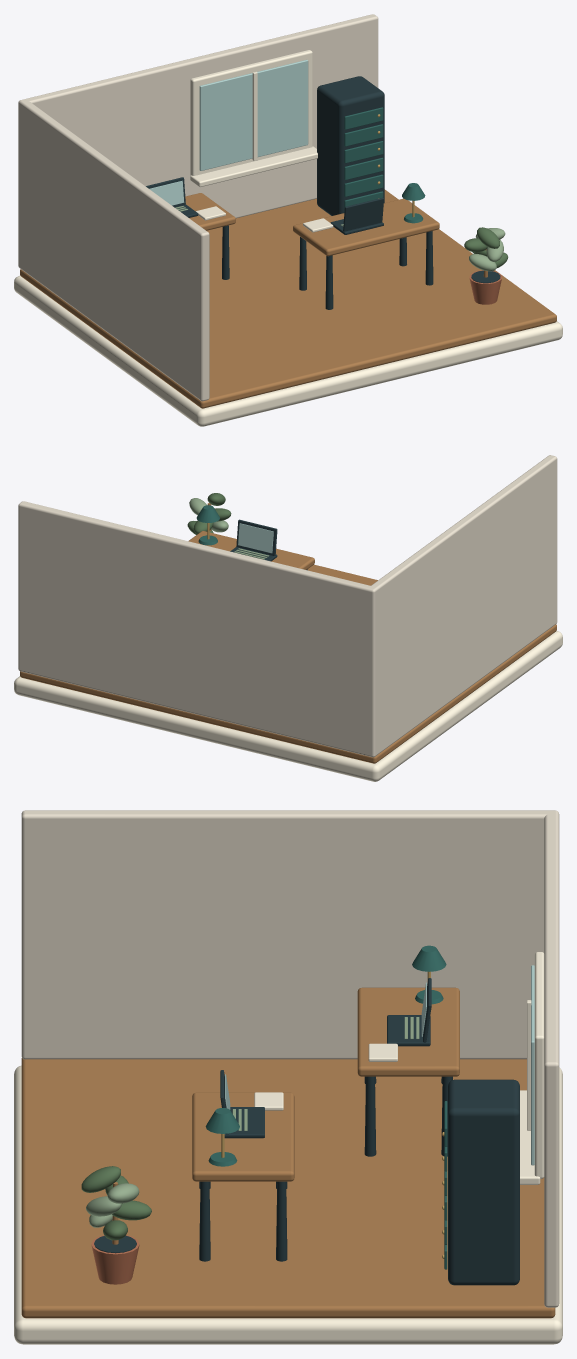
The model's file is business-ai.glb.
The picture shows the model from 3 angles, top to bottom: view 1: azimuth 30°, elevation 25°; view 2: azimuth 150°, elevation 25°; view 3: azimuth 270°, elevation 25°; orthographic projection. The views are drawn at different scales.
Parts seen in each view (by area): view 1: floor, side-wall, back-wall, foundation, window-glass, cabinet, desktop (×2), window-frame, server (×5), window-sill, display-shell, ceramic-pot (+2 smaller); view 2: back-wall, side-wall, foundation, floor, desktop, screen, display-shell; view 3: side-wall, floor, foundation, cabinet, desktop (×2), back-wall, leg (×3), window-frame, keyboard-base (×2), ceramic-pot, shade (×2), window-sill (+2 smaller).
Part boxes in pixels (x1=…): floor: x1=20, y1=189, x2=556, y2=408; side-wall: x1=20, y1=100, x2=209, y2=401; back-wall: x1=18, y1=14, x2=378, y2=269; foundation: x1=14, y1=275, x2=562, y2=426; window-glass: x1=199, y1=59, x2=308, y2=170; cabinet: x1=317, y1=76, x2=384, y2=215; desktop (×2): x1=185, y1=193, x2=439, y2=256; window-frame: x1=190, y1=50, x2=312, y2=175; server (×5): x1=344, y1=107, x2=383, y2=196; window-sill: x1=190, y1=146, x2=317, y2=187; display-shell: x1=343, y1=197, x2=383, y2=231; ceramic-pot: x1=469, y1=270, x2=502, y2=304; back-wall: x1=18, y1=501, x2=377, y2=757; side-wall: x1=371, y1=455, x2=557, y2=754; foundation: x1=14, y1=631, x2=562, y2=781; floor: x1=20, y1=564, x2=556, y2=763; desktop: x1=188, y1=531, x2=314, y2=569; screen: x1=238, y1=523, x2=273, y2=553; display-shell: x1=236, y1=519, x2=277, y2=555; side-wall: x1=21, y1=810, x2=551, y2=1059; floor: x1=21, y1=1058, x2=555, y2=1318; foundation: x1=14, y1=1065, x2=562, y2=1344; cabinet: x1=448, y1=1079, x2=519, y2=1285; desktop (×2): x1=192, y1=987, x2=459, y2=1181; back-wall: x1=544, y1=810, x2=559, y2=1307; leg (×3): x1=199, y1=1076, x2=376, y2=1261; window-frame: x1=534, y1=952, x2=544, y2=1178; keyboard-base (×2): x1=224, y1=1015, x2=430, y2=1138; ceramic-pot: x1=91, y1=1235, x2=139, y2=1284; shade (×2): x1=205, y1=945, x2=446, y2=1133; window-sill: x1=520, y1=1090, x2=540, y2=1184.
Size of the model in its own units: 4.1 by 2.06 by 3.65.
